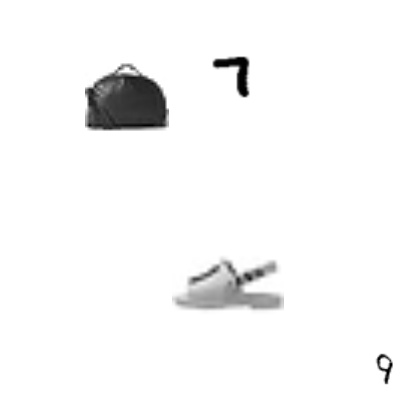7: (209, 43, 265, 99)
9: (364, 345, 406, 387)
Bag: (85, 55, 169, 139)
Sandal: (172, 229, 284, 341)
